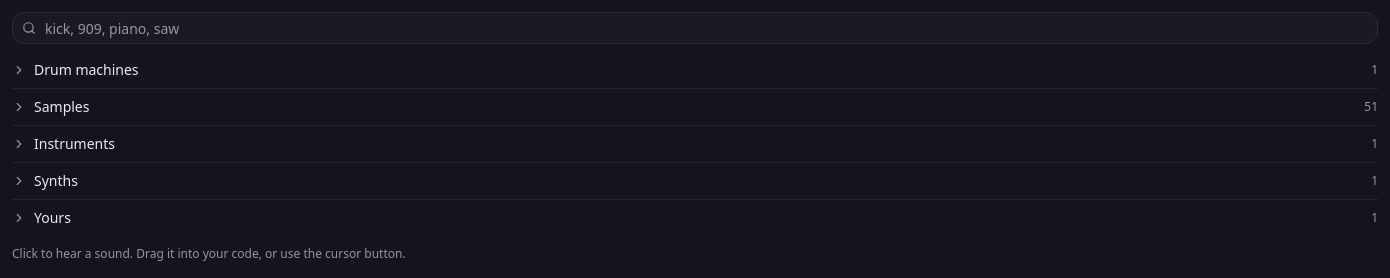
SoundsSection › searches across groups with plain words, and opens what it finds
In the search field named "Search sounds": [695, 28] box [12,12,1378,44], type "kick"
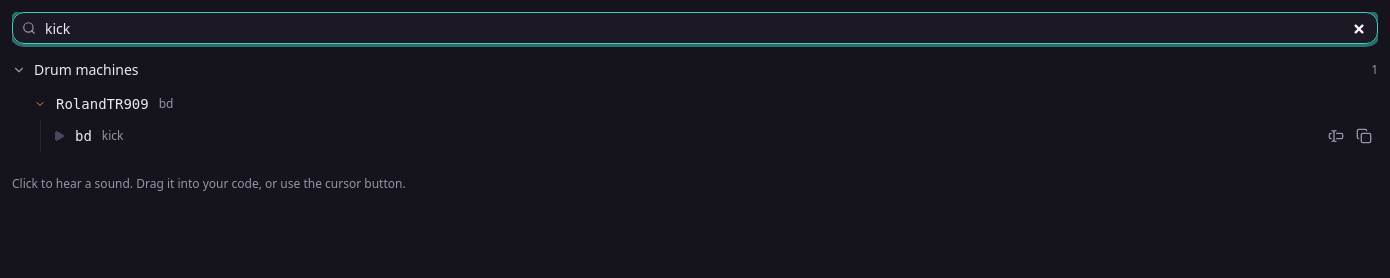
Expected: the button "Samples" is gone
Expected: the button with aria-label "Preview RolandTR909 bd" is shown, [53,120,1318,152]
Replace the text in the search field named "Search sounds" with "zzqq": [695, 28] box [12,12,1378,44]
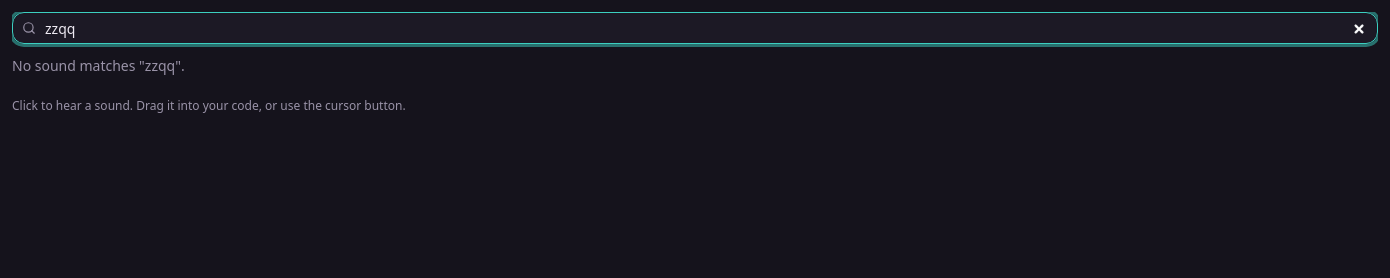
Expected: the text "No sound matches \"zzqq\"." is shown, [12,56,185,75]
